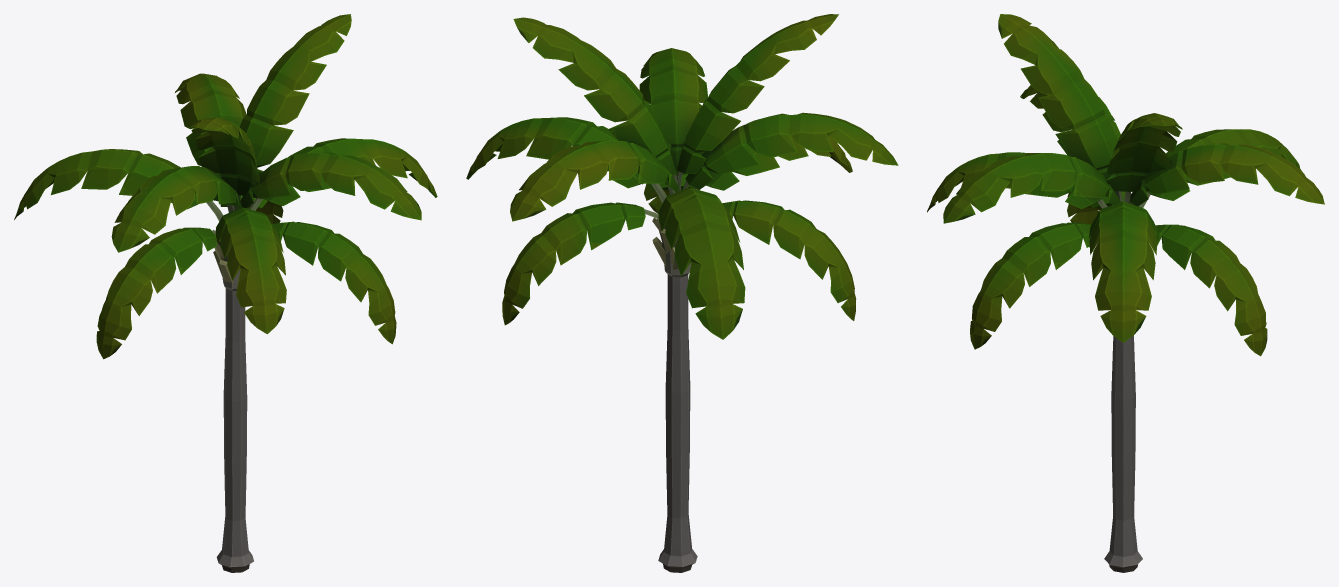
The model's file is palm.gltf.
3 renders of one model, left to right at view 1: azimuth 30°, elevation 25°; view 2: azimuth 150°, elevation 25°; view 3: azimuth 270°, elevation 25°, orthographic. The views are drawn at different scales.
Visible parts, largest first — view 1: node-0; view 2: node-0; view 3: node-0.
Boxes of the visible parts, bbox=[...] form: node-0: bbox=[14, 14, 437, 572]; node-0: bbox=[466, 14, 898, 572]; node-0: bbox=[927, 14, 1324, 572].
Size of the model in its own units: 10.7 by 14.17 by 10.06.
Materials: 1 (1 with a texture image).
